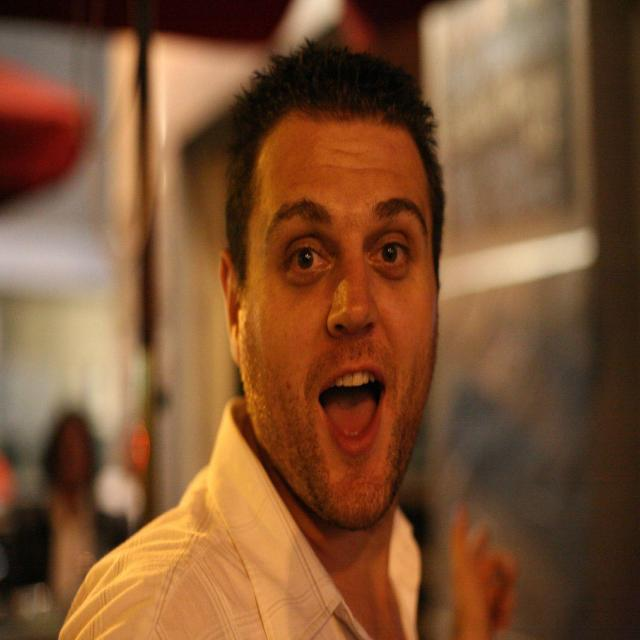no-glass: (281, 240, 412, 277)
